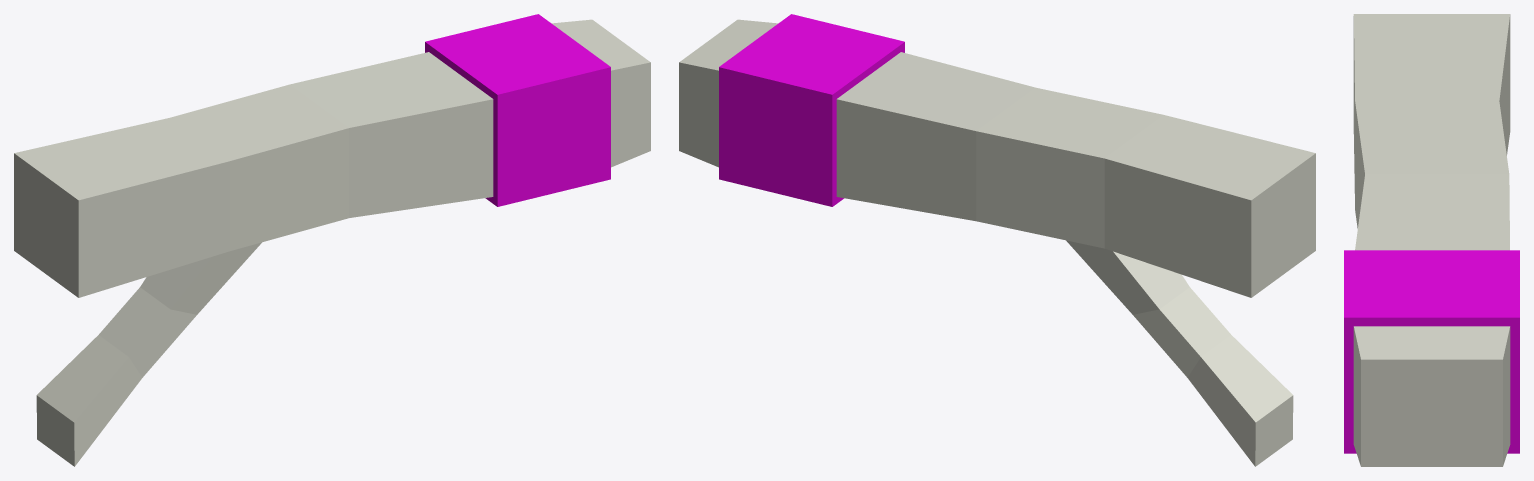
File: Tunnelight.fbx
3 renders of one model, left to right at view 1: azimuth 30°, elevation 25°; view 2: azimuth 150°, elevation 25°; view 3: azimuth 270°, elevation 25°, orthographic. The views are drawn at different scales.
Visible parts, largest first — view 1: Lampost.002; view 2: Lampost.002; view 3: Lampost.002.
Boxes of the visible parts, x1=… form: Lampost.002: x1=14, y1=14, x2=650, y2=466; Lampost.002: x1=679, y1=14, x2=1315, y2=466; Lampost.002: x1=1344, y1=14, x2=1519, y2=466.
Bounding box in the file's own units: 96.17 × 45.7 × 21.02.
